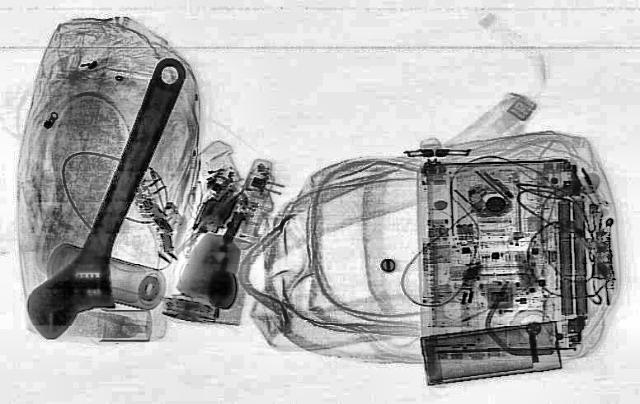Wrench: (12, 53, 216, 345)
